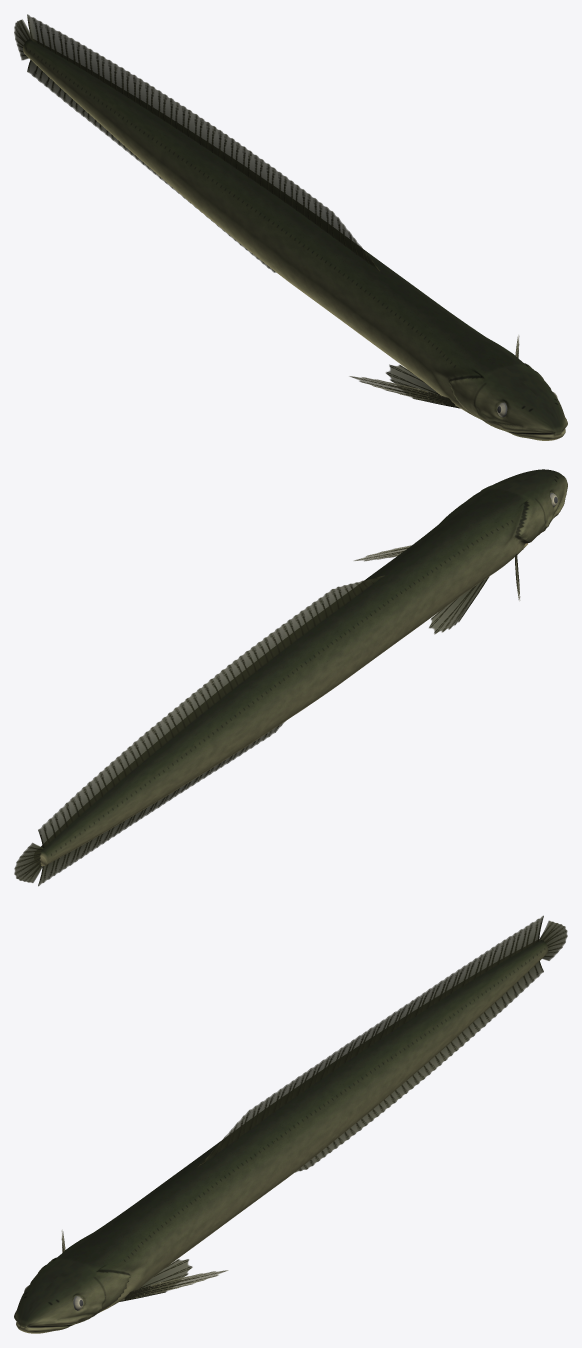
File: wegorz.glb
The picture shows the model from 3 angles, top to bottom: view 1: azimuth 30°, elevation 25°; view 2: azimuth 150°, elevation 25°; view 3: azimuth 330°, elevation 25°; orthographic projection. The views are drawn at different scales.
Parts seen in each view (by area): view 1: Body, FinDorsal1, FinAnal, FinPectoral, FinPelvic; view 2: Body, FinDorsal1, FinAnal, FinPelvic, FinCaudal; view 3: Body, FinDorsal1, FinAnal, FinPectoral, FinPelvic, FinCaudal.
Part boxes in pixels (bbox=[...]): Body: bbox=[23, 39, 567, 440]; FinDorsal1: bbox=[27, 14, 379, 271]; FinAnal: bbox=[27, 59, 276, 272]; FinPectoral: bbox=[349, 335, 519, 406]; FinPelvic: bbox=[386, 364, 460, 408]; Body: bbox=[40, 469, 567, 866]; FinDorsal1: bbox=[38, 575, 384, 848]; FinAnal: bbox=[38, 721, 285, 886]; FinPelvic: bbox=[429, 576, 489, 634]; FinCaudal: bbox=[14, 843, 43, 882]; Body: bbox=[14, 940, 547, 1333]; FinDorsal1: bbox=[197, 915, 543, 1167]; FinAnal: bbox=[295, 961, 543, 1172]; FinPectoral: bbox=[61, 1230, 228, 1299]; FinPelvic: bbox=[119, 1259, 192, 1301]; FinCaudal: bbox=[539, 920, 567, 960].
Bounding box in the file's own units: 0.1791 × 0.1052 × 0.9984.
Materials: 8 (7 with a texture image).
